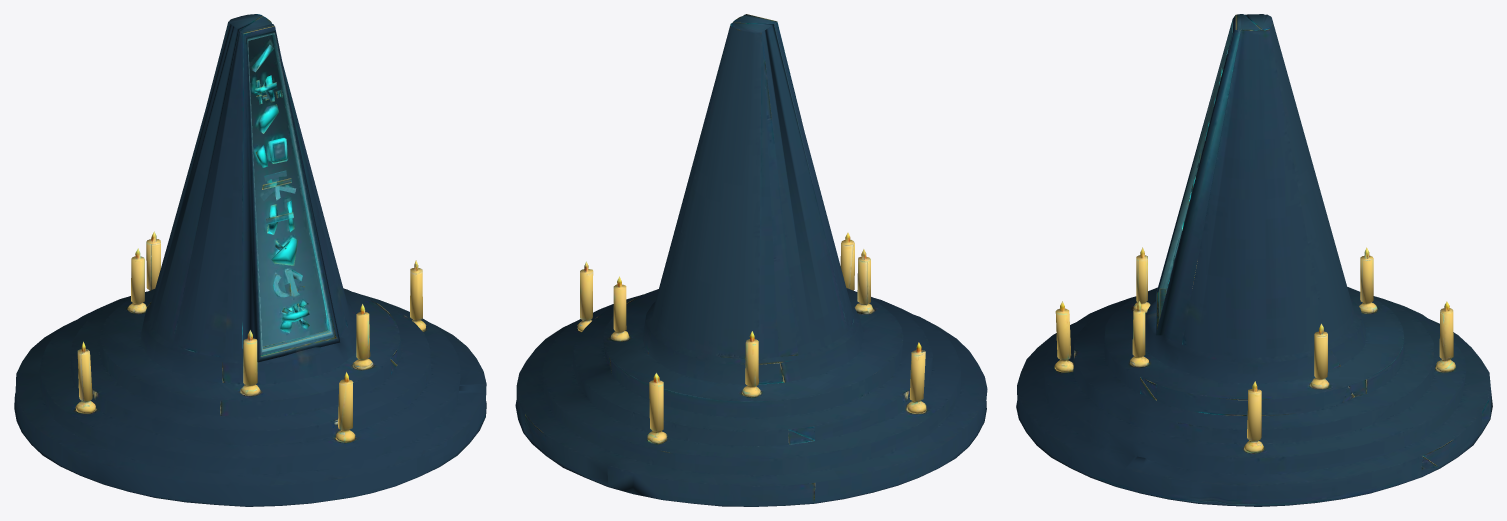
File: shrine.glb
The picture shows the model from 3 angles, left to right: view 1: azimuth 30°, elevation 25°; view 2: azimuth 150°, elevation 25°; view 3: azimuth 270°, elevation 25°; orthographic projection.
Bounding box in the file's own units: 0.9566 × 0.8516 × 0.9575.
1 material, 1 textured.
